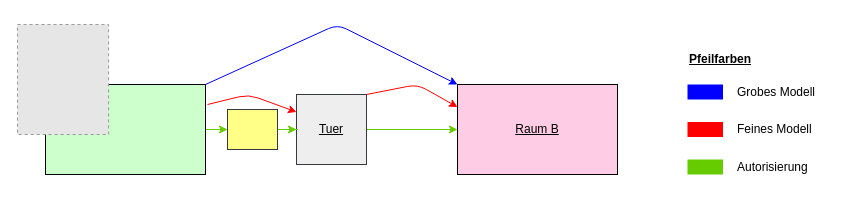
Some shapes in this 855 by 200 pixel diagram are drawn without their labels. Grey dashed boxes stand in for pictures. The centre of each missing label's shape, as x and y in pixels:
Auth: point (252, 129)
Raum A: point (125, 129)
